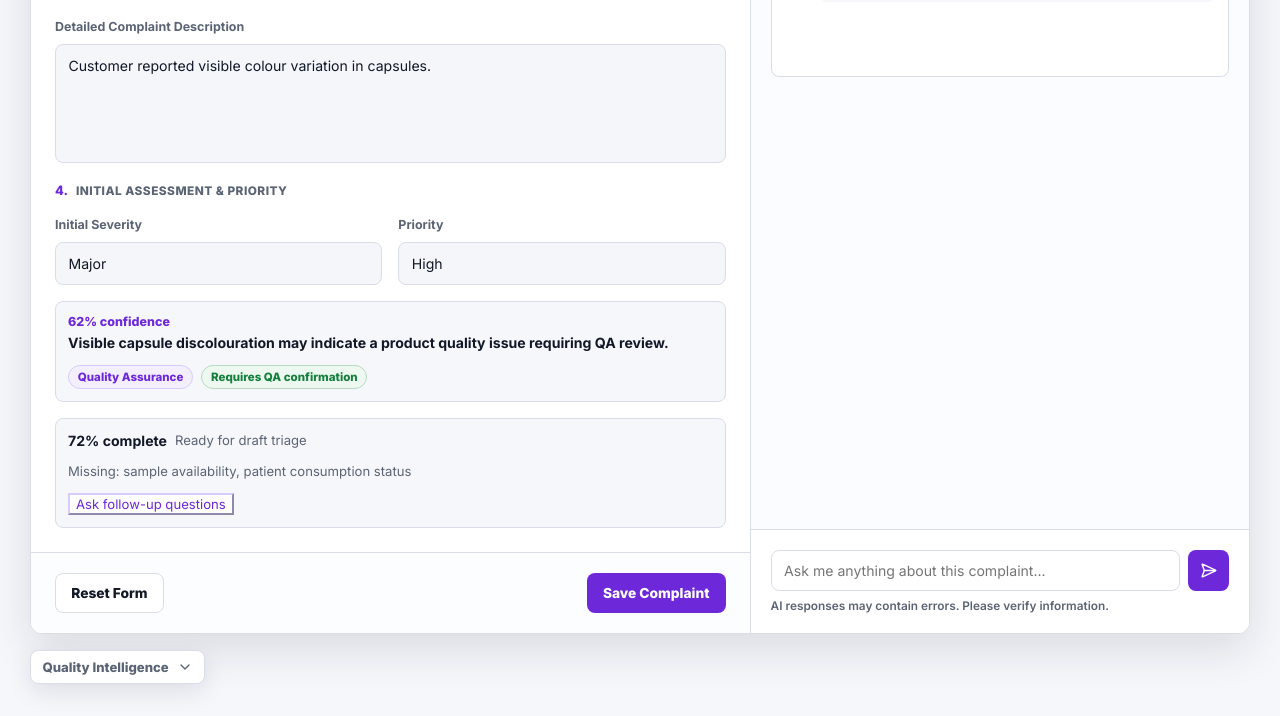
Scenario: App › batch intelligence details tab keeps secondary evidence collapsed
This screenshot has width=1280, height=716.
(page scrolled)
Click the button "Quality Intelligence" at [118, 667], box [30,650,205,684]
(page scrolled)
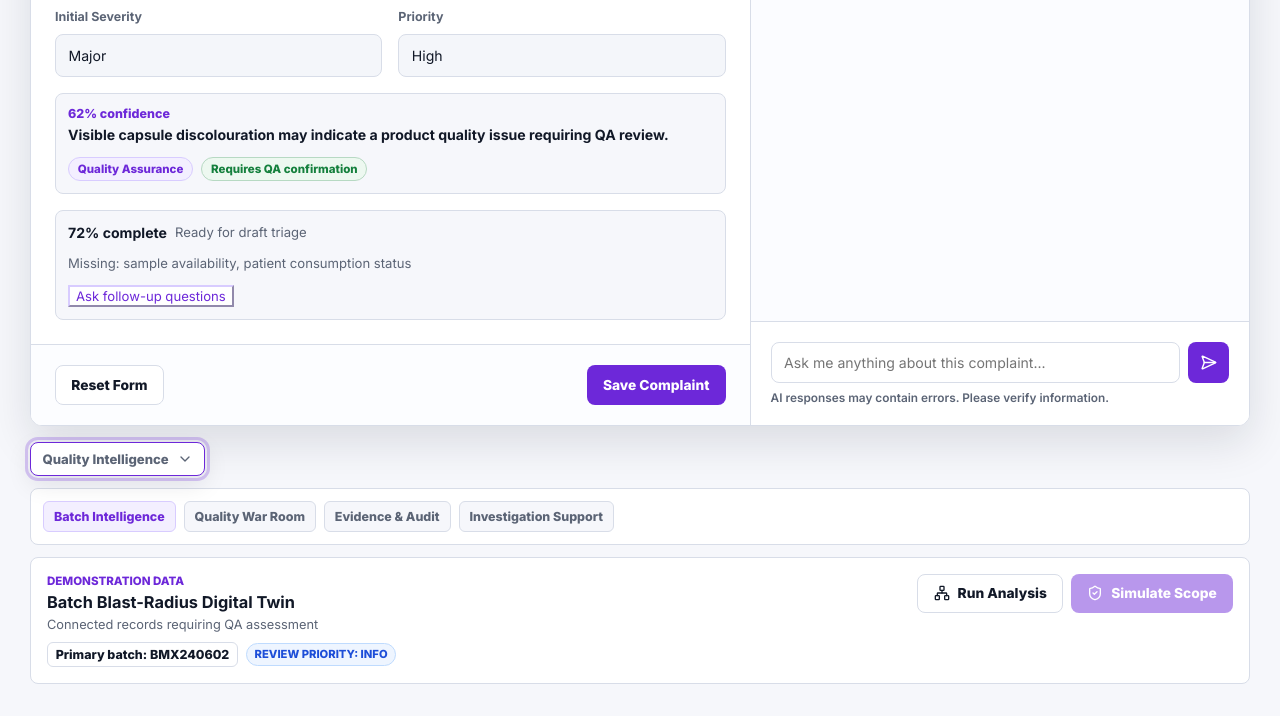
Click the button "Run Analysis" at [990, 593], box [917,574,1063,613]
(page scrolled)
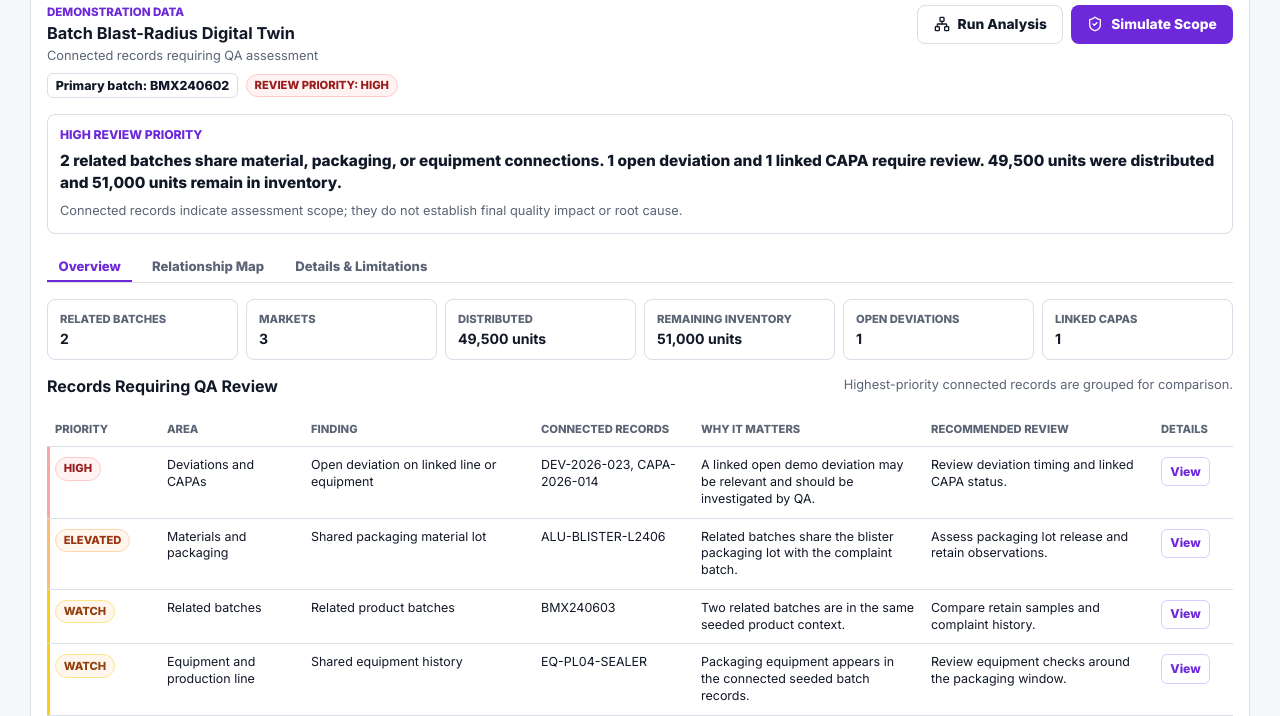
Click the tab "Details & Limitations" at [361, 266], box [284,250,439,282]
(page scrolled)
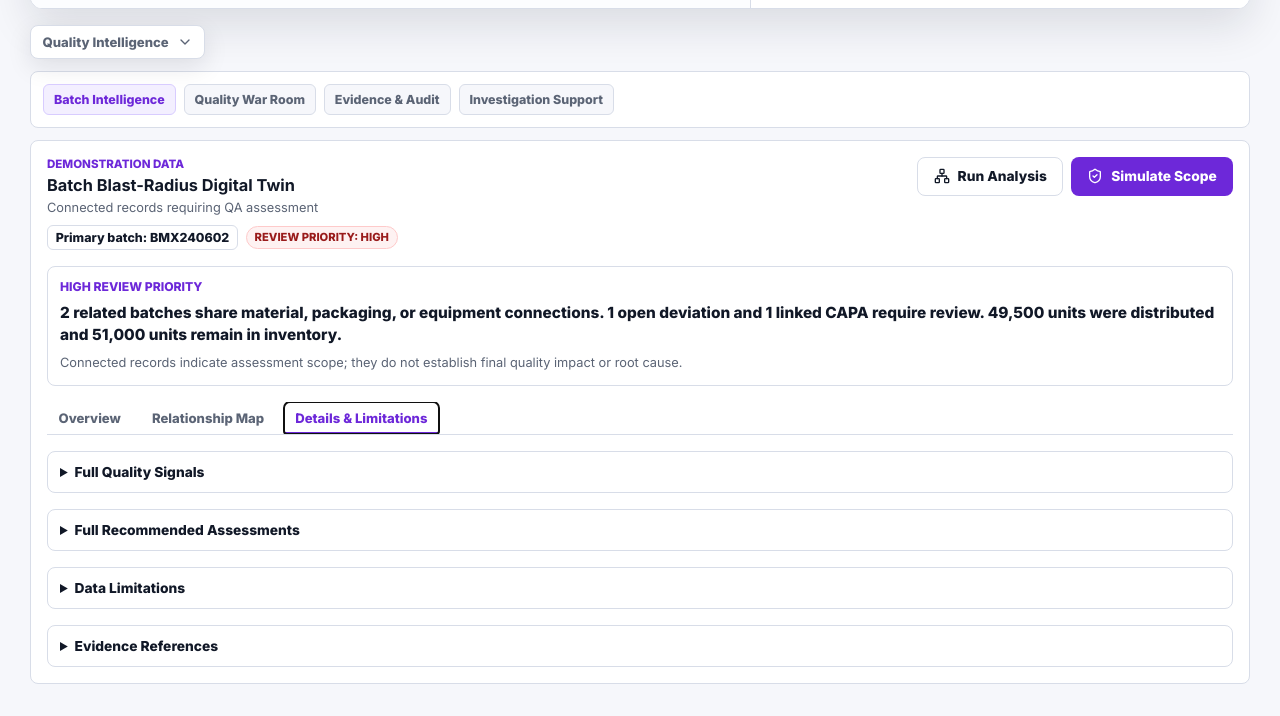
Result: the heading "Full Quality Signals" is shown
Result: the heading "Data Limitations" is shown at [75,580,185,596]
Click the heading "Full Quality Signals" at [140, 472], box [75,464,204,480]
(page scrolled)
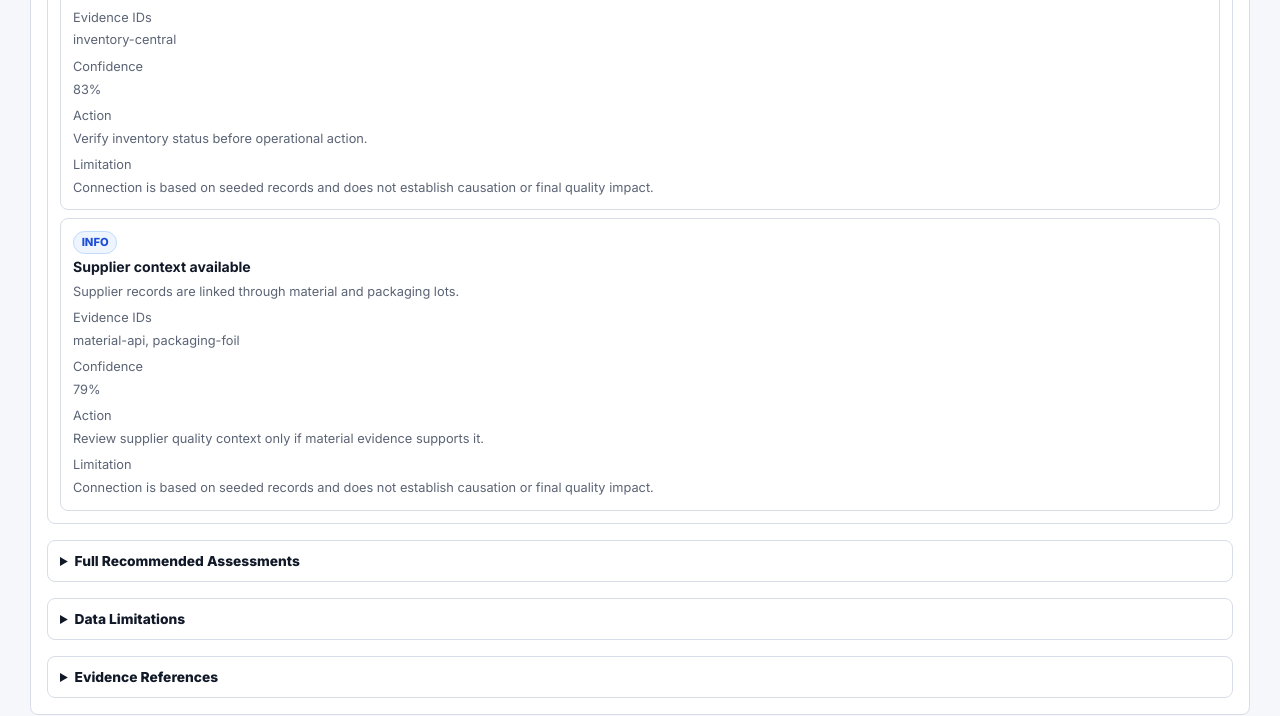
Result: the text "Supplier context available" is shown at [73,258,251,275]
